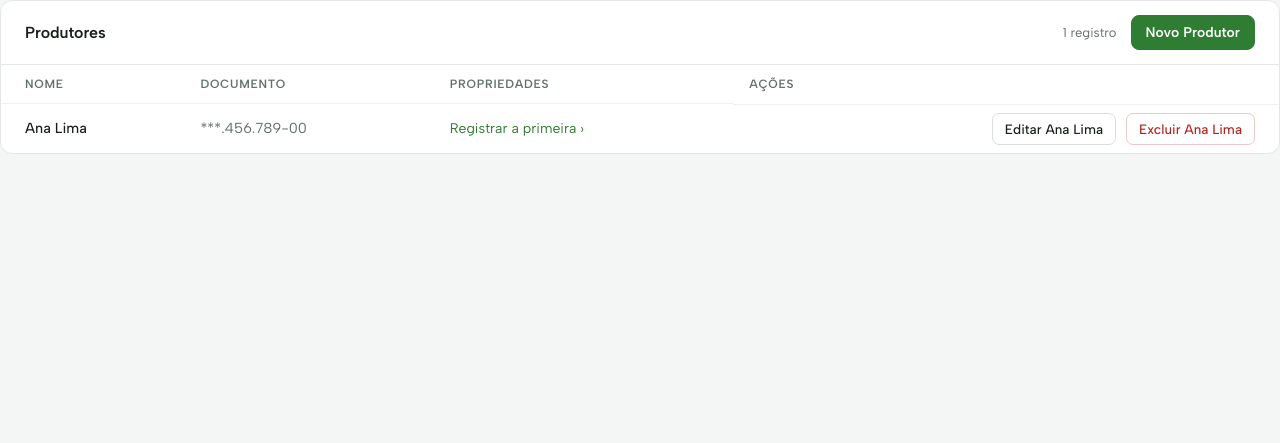
Test: a seção de Produtores › corrige o nome sem oferecer o Documento para edição
Expected: the text "Ana Lima" is shown, [1,104,184,153]
Click the button "Editar Ana Lima": (1054, 129) [992,112,1116,145]
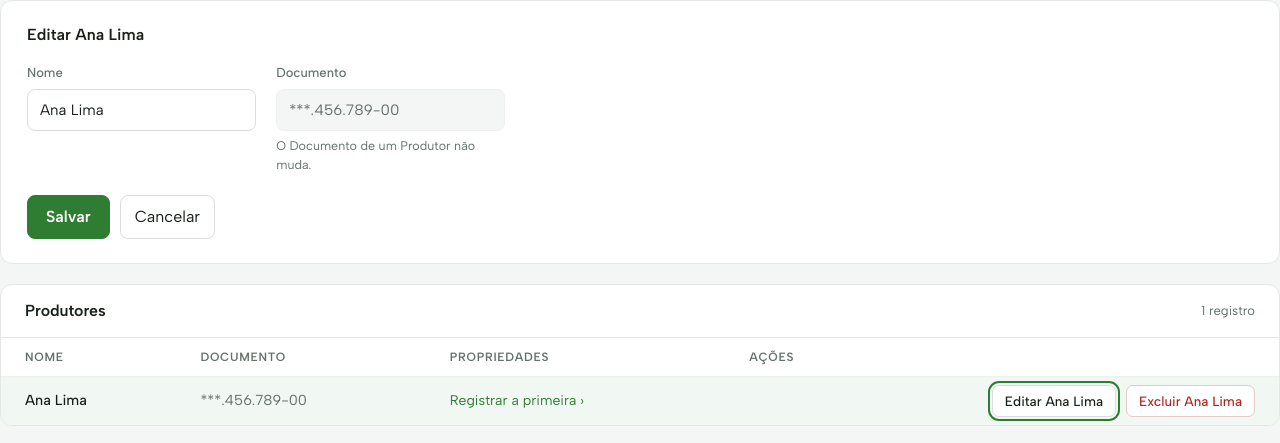
Replace the text in the field labelled "Nome" with "Ana Maria Lima": (142, 110) [27,88,256,131]
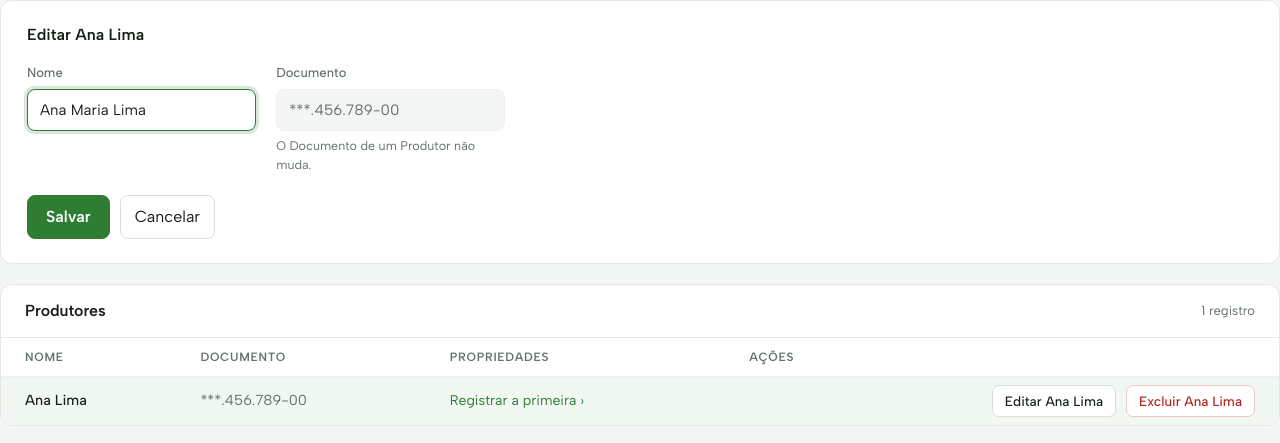
Click the button "Salvar": (68, 216) [27,194,110,238]
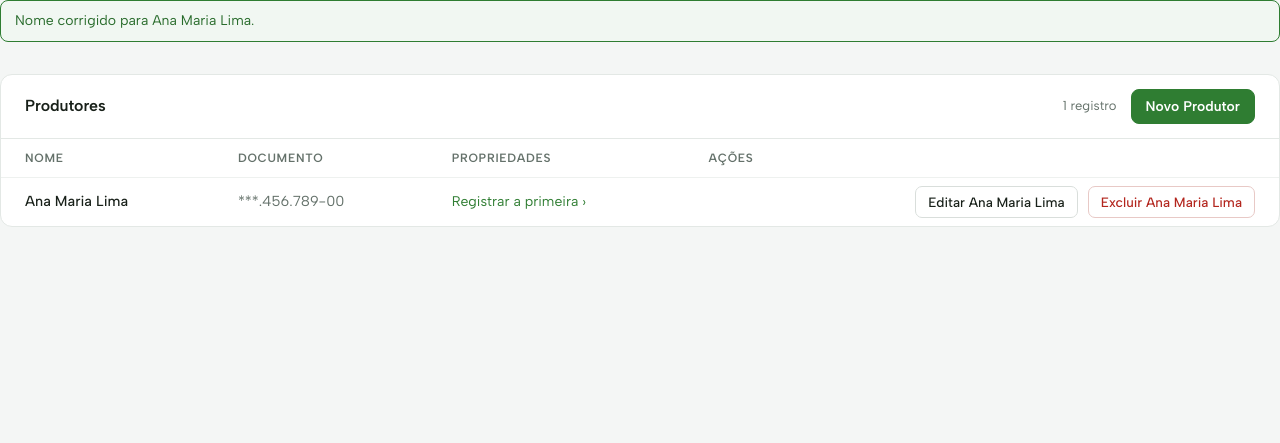
Now the text "Ana Maria Lima" is shown, box [1,177,222,226]
